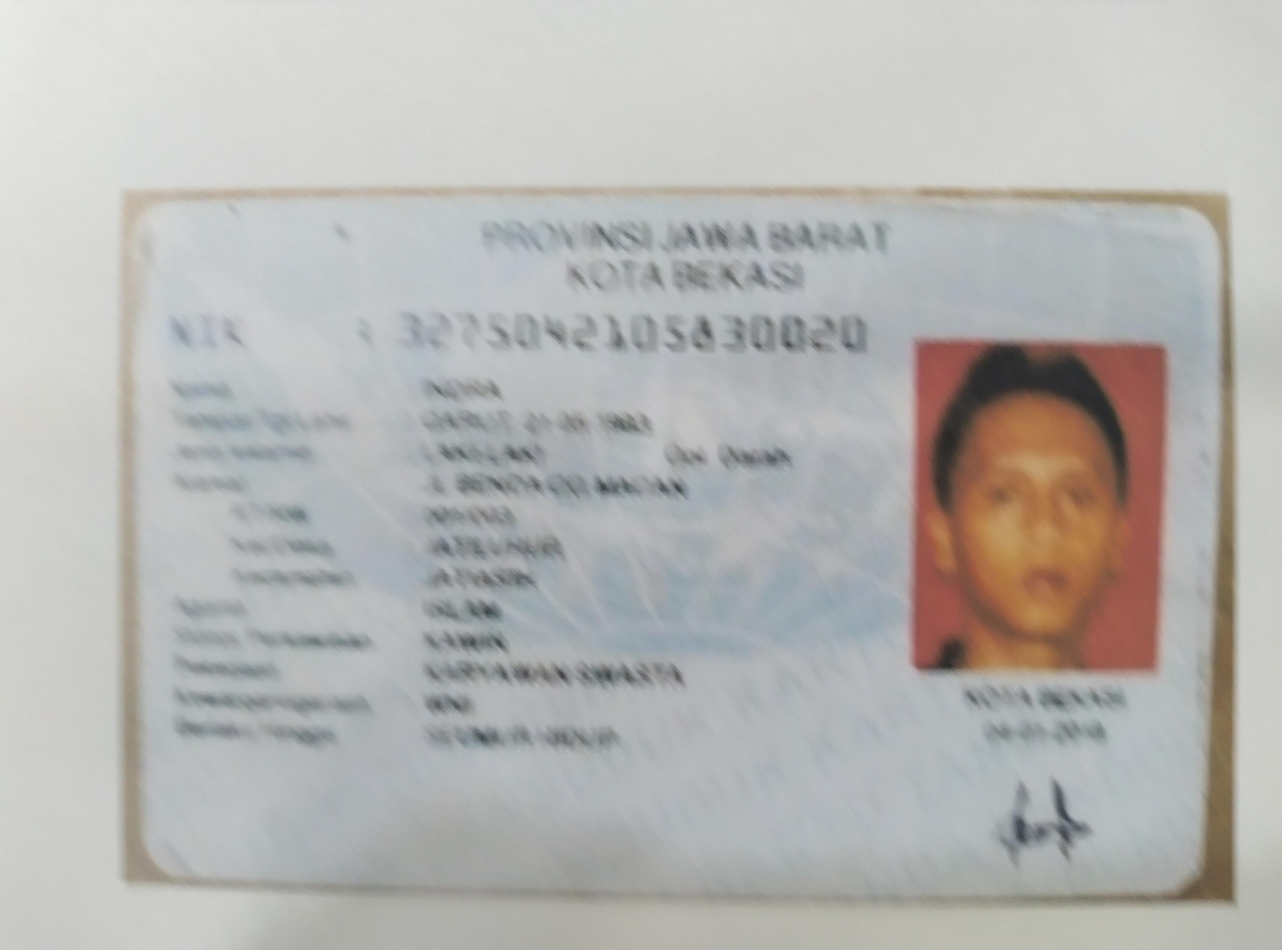ID-card: (147, 202, 1203, 882)
